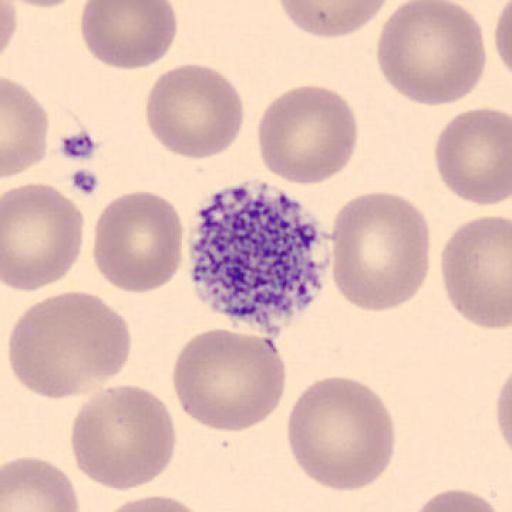Platelet: (186, 179, 330, 332)
RBC: (8, 289, 133, 401), (286, 374, 397, 494), (328, 191, 432, 313), (170, 326, 287, 434), (375, 0, 488, 107), (70, 383, 178, 493), (256, 84, 360, 187), (143, 62, 244, 162), (92, 188, 184, 294), (2, 181, 86, 293), (439, 214, 512, 330), (434, 106, 512, 207), (80, 1, 179, 71), (2, 76, 51, 182), (1, 454, 80, 512), (276, 0, 390, 39), (410, 488, 507, 512), (99, 493, 211, 512), (492, 368, 512, 460), (493, 1, 512, 77), (495, 376, 512, 452), (0, 0, 18, 59), (5, 0, 82, 8)
